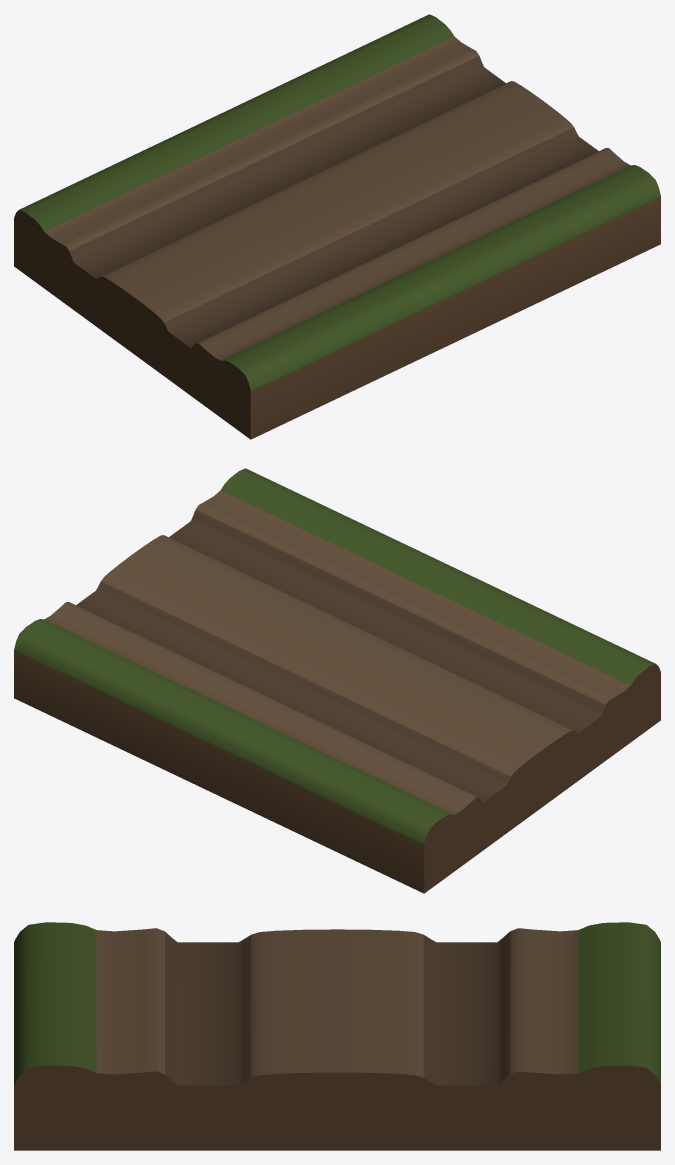
3 renders of one model, top to bottom at view 1: azimuth 30°, elevation 25°; view 2: azimuth 150°, elevation 25°; view 3: azimuth 270°, elevation 25°, orthographic. The views are drawn at different scales.
Parts seen in each view (by area): view 1: b1o; view 2: b1o; view 3: b1o.
Boxes of the visible parts, <box> form: b1o: <box>14,14,660,439</box>; b1o: <box>14,468,660,893</box>; b1o: <box>14,922,660,1150</box>.
Size of the model in its own units: 9 by 3.31 by 9.
